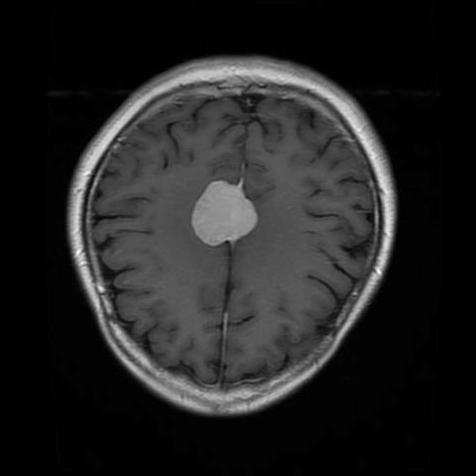Tumour-Meningioma: (158, 147, 287, 268)
